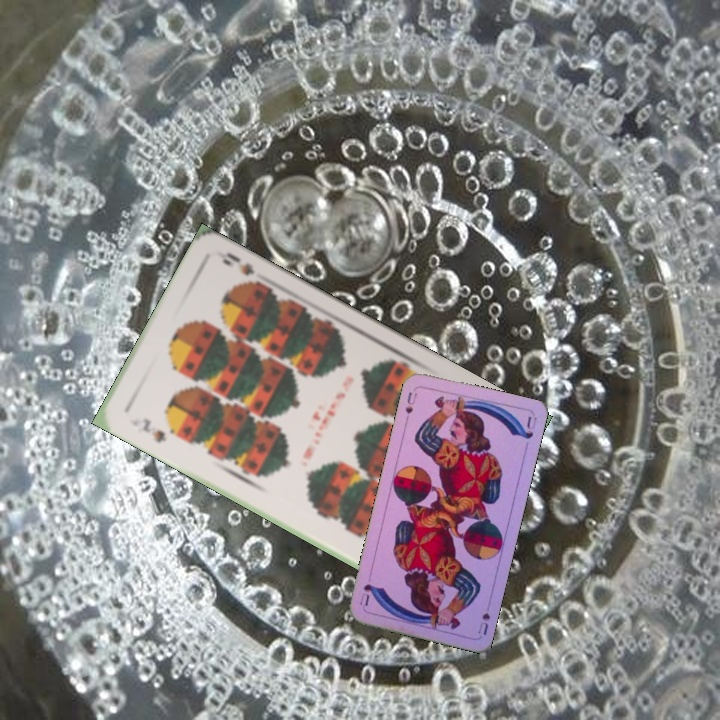S9: (138, 413, 169, 446)
SU: (474, 597, 493, 637), (401, 388, 420, 425)
